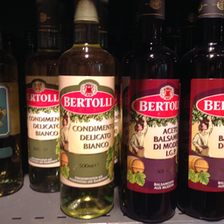vinegar: (122, 1, 181, 223), (56, 3, 115, 220), (21, 4, 71, 195), (181, 1, 223, 218)
